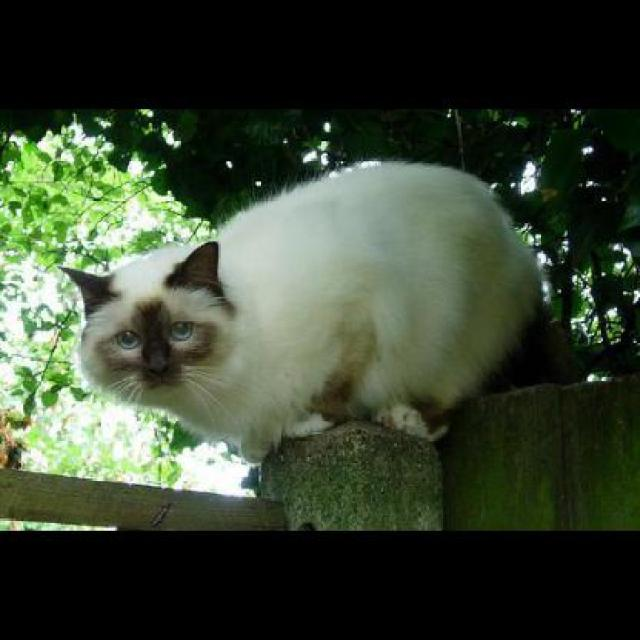unauthorized: (57, 156, 565, 467)
